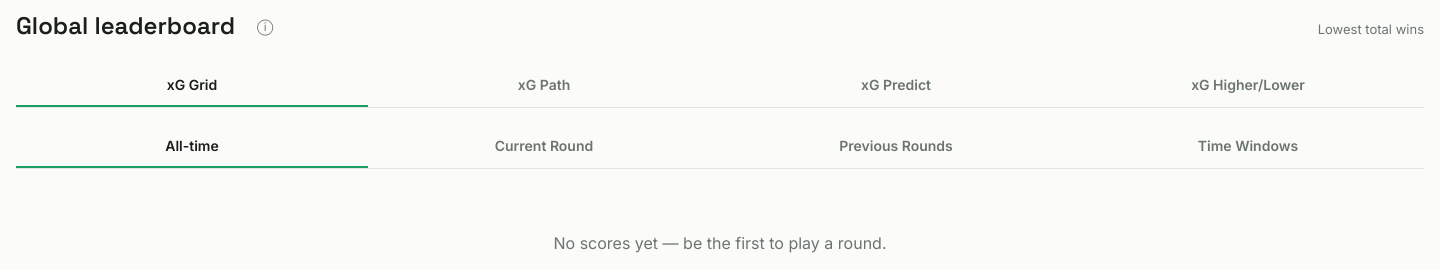
LiveLeaderboard › REQ407: "no active round" renders a plain informational empty state, not an error banner
Check: the text "No scores yet — be the first to play a round." is shown, box [554,233,886,253]
What coordinates should you click on to do the following:
click the tab "Current Round"
I would click on:
 (544, 146)
Its box is [368,124,720,168].
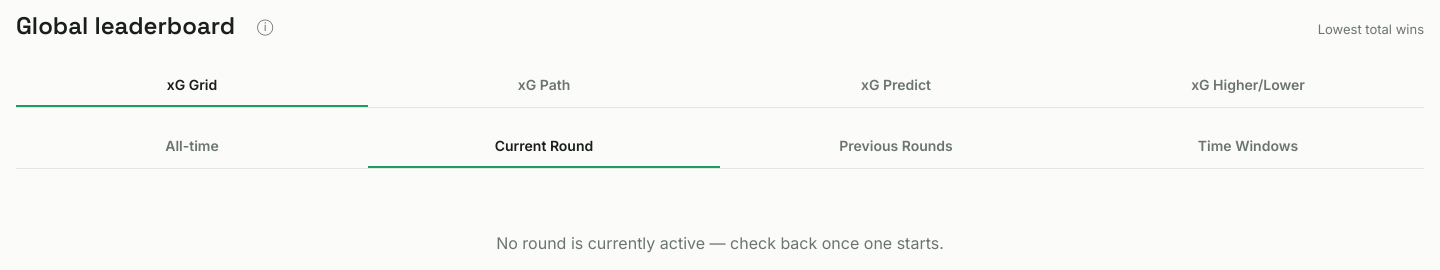
Check: the text "No round is currently active — check back once one starts." is shown, box [496,233,944,253]
